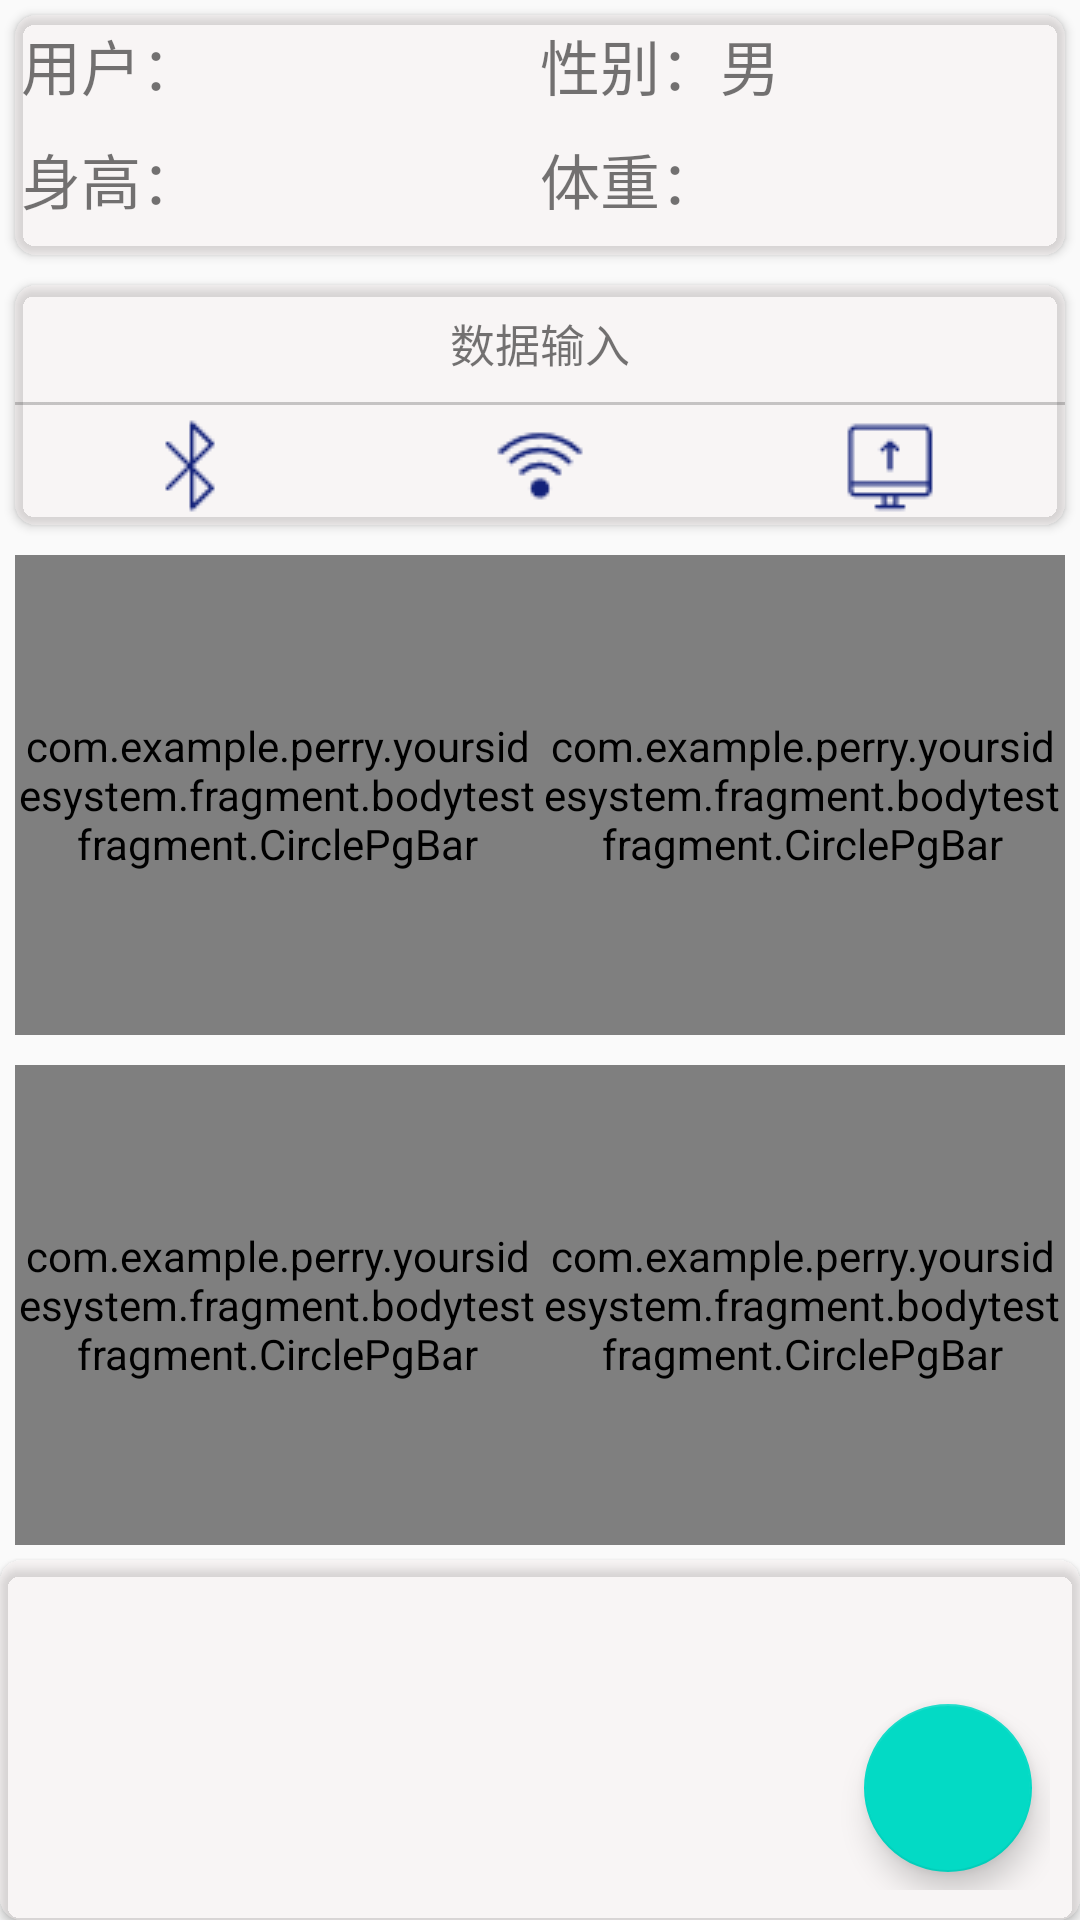

Named icons in this screenshot (1080×1920) and their bounding boxes, (x1, y1, x2, y2):
wifi: (497, 432, 583, 500)
